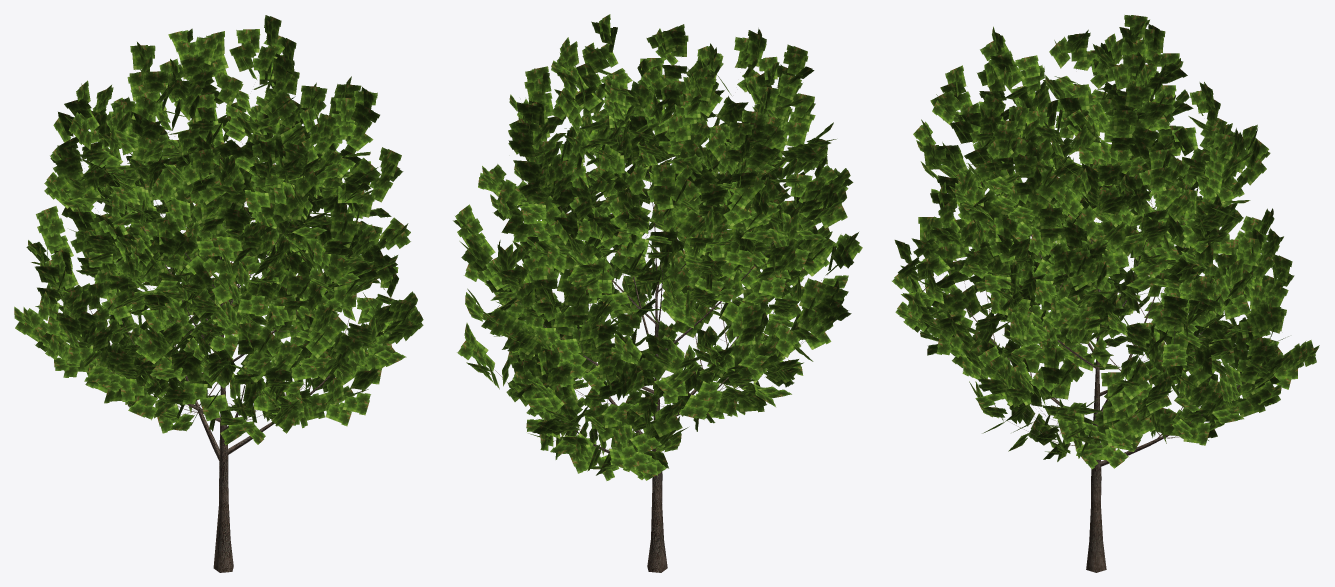
The model's file is tree.glb.
3 renders of one model, left to right at view 1: azimuth 30°, elevation 25°; view 2: azimuth 150°, elevation 25°; view 3: azimuth 270°, elevation 25°, orthographic.
Parts seen in each view (by area): view 1: sugar_maple_leaf, sugar_maple_bark; view 2: sugar_maple_leaf, sugar_maple_bark; view 3: sugar_maple_leaf, sugar_maple_bark.
Boxes of the visible parts, <box> form: sugar_maple_leaf: <box>14,15,423,445</box>; sugar_maple_bark: <box>65,106,386,572</box>; sugar_maple_leaf: <box>453,14,862,480</box>; sugar_maple_bark: <box>495,61,828,572</box>; sugar_maple_leaf: <box>892,15,1319,469</box>; sugar_maple_bark: <box>928,67,1272,572</box>.
Bounding box in the file's own units: 0.7348 × 1 × 0.7446.
2 materials, 2 textured.
